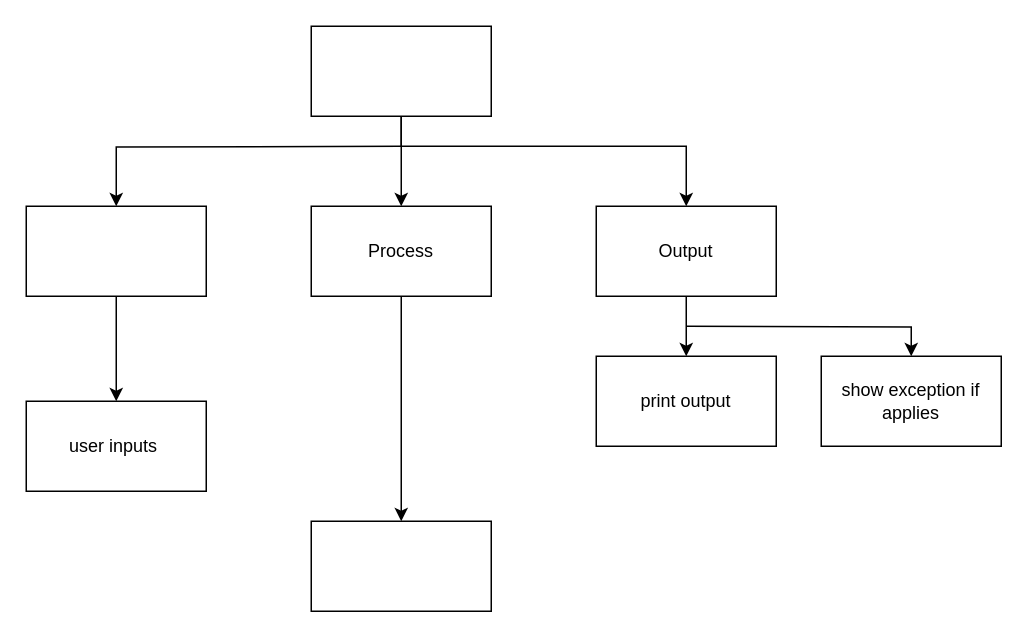
The diagram is 1028 pixels wide and 638 high, and some of its shapes have lost their labels. The shapes that lost their labels are listed below. From the top down, each one's centre as x and y in pixels, then its label:
At [400,70]: "While Loop".
At [115,250]: "Input".
At [400,565]: "perimeter = int_side *10".
